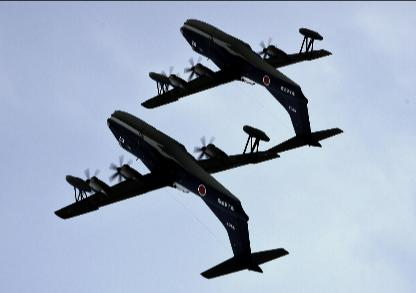Tu95: (55, 110, 291, 280), (142, 18, 344, 154)
